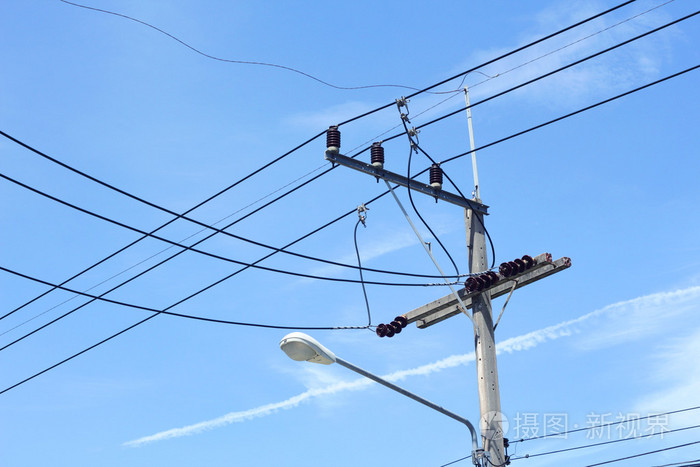insulator: (466, 268, 500, 293), (501, 255, 533, 275), (377, 319, 410, 338)
